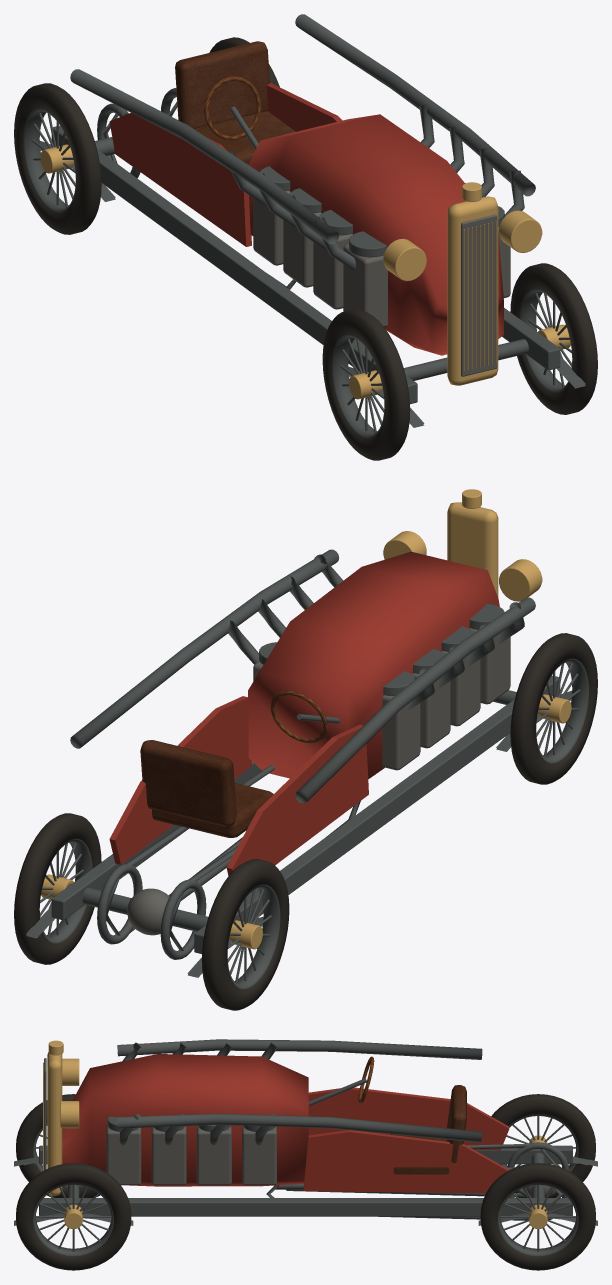
File: Fiat_S76_1910_Detailed.fbx
3 renders of one model, top to bottom at view 1: azimuth 30°, elevation 25°; view 2: azimuth 150°, elevation 25°; view 3: azimuth 270°, elevation 25°, orthographic. The views are drawn at different scales.
Parts seen in each view (by area): view 1: Fiat_S76_1910_High_Hood, Fiat_S76_1910_Side_-1, Fiat_S76_1910_Chassis_Rail_-1, Fiat_S76_1910_Wheel_RL_Tire, Fiat_S76_1910_Wheel_FL_Tire, Fiat_S76_1910_Seat_Back, Fiat_S76_1910_Wheel_FR_Tire, Fiat_S76_1910_Exhaust_Header_-1, Fiat_S76_1910_Radiator_Core, Fiat_S76_1910_Exhaust_Header_1, Fiat_S76_1910_Blade_Radiator, Fiat_S76_1910_Engine_Cylinder_-1_0 (+16 smaller); view 2: Fiat_S76_1910_High_Hood, Fiat_S76_1910_Chassis_Rail_-1, Fiat_S76_1910_Side_-1, Fiat_S76_1910_Seat_Back, Fiat_S76_1910_Wheel_FL_Tire, Fiat_S76_1910_Wheel_RL_Tire, Fiat_S76_1910_Wheel_RR_Tire, Fiat_S76_1910_Side_1, Fiat_S76_1910_Exhaust_Header_1, Fiat_S76_1910_Exhaust_Header_-1, Fiat_S76_1910_Blade_Radiator, Fiat_S76_1910_Chassis_Rail_1 (+19 smaller); view 3: Fiat_S76_1910_High_Hood, Fiat_S76_1910_Side_1, Fiat_S76_1910_Chassis_Rail_1, Fiat_S76_1910_Side_-1, Fiat_S76_1910_Wheel_FR_Tire, Fiat_S76_1910_Wheel_RR_Tire, Fiat_S76_1910_Exhaust_Header_1, Fiat_S76_1910_Exhaust_Header_-1, Fiat_S76_1910_Wheel_RL_Tire, Fiat_S76_1910_Engine_Cylinder_1_2, Fiat_S76_1910_Engine_Cylinder_1_1, Fiat_S76_1910_Engine_Cylinder_1_3 (+18 smaller).
Part boxes in pixels (x1,y1,x2,y2): Fiat_S76_1910_High_Hood: (248, 114, 503, 355); Fiat_S76_1910_Side_-1: (109, 113, 251, 246); Fiat_S76_1910_Chassis_Rail_-1: (51, 125, 417, 404); Fiat_S76_1910_Wheel_RL_Tire: (14, 83, 101, 234); Fiat_S76_1910_Wheel_FL_Tire: (322, 309, 410, 460); Fiat_S76_1910_Seat_Back: (175, 41, 269, 128); Fiat_S76_1910_Wheel_FR_Tire: (510, 263, 597, 414); Fiat_S76_1910_Exhaust_Header_-1: (70, 69, 338, 244); Fiat_S76_1910_Radiator_Core: (461, 214, 497, 376); Fiat_S76_1910_Exhaust_Header_1: (295, 14, 535, 196); Fiat_S76_1910_Blade_Radiator: (447, 196, 498, 385); Fiat_S76_1910_Engine_Cylinder_-1_0: (343, 244, 387, 327); Fiat_S76_1910_High_Hood: (248, 551, 499, 778); Fiat_S76_1910_Chassis_Rail_-1: (194, 675, 560, 953); Fiat_S76_1910_Side_-1: (226, 724, 368, 875); Fiat_S76_1910_Seat_Back: (140, 740, 236, 826); Fiat_S76_1910_Wheel_FL_Tire: (510, 633, 597, 784); Fiat_S76_1910_Wheel_RL_Tire: (201, 859, 289, 1010); Fiat_S76_1910_Wheel_RR_Tire: (14, 813, 101, 964); Fiat_S76_1910_Side_1: (109, 696, 251, 864); Fiat_S76_1910_Exhaust_Header_1: (70, 549, 338, 748); Fiat_S76_1910_Exhaust_Header_-1: (295, 597, 535, 803); Fiat_S76_1910_Blade_Radiator: (447, 502, 498, 597); Fiat_S76_1910_Chassis_Rail_1: (51, 761, 261, 920); Fiat_S76_1910_High_Hood: (62, 1054, 308, 1186); Fiat_S76_1910_Side_1: (303, 1130, 508, 1193); Fiat_S76_1910_Chassis_Rail_1: (39, 1198, 572, 1216); Fiat_S76_1910_Side_-1: (308, 1087, 509, 1150); Fiat_S76_1910_Wheel_FR_Tire: (16, 1163, 131, 1270); Fiat_S76_1910_Wheel_RR_Tire: (480, 1163, 595, 1270); Fiat_S76_1910_Exhaust_Header_1: (117, 1113, 482, 1142); Fiat_S76_1910_Exhaust_Header_-1: (117, 1039, 482, 1059); Fiat_S76_1910_Wheel_RL_Tire: (491, 1094, 595, 1197); Fiat_S76_1910_Engine_Cylinder_1_2: (196, 1126, 231, 1185); Fiat_S76_1910_Engine_Cylinder_1_1: (151, 1126, 186, 1185); Fiat_S76_1910_Engine_Cylinder_1_3: (242, 1126, 276, 1185).
Bounding box in the file's own units: 165 × 168 × 465.
Materials: 7 (2 with a texture image).
